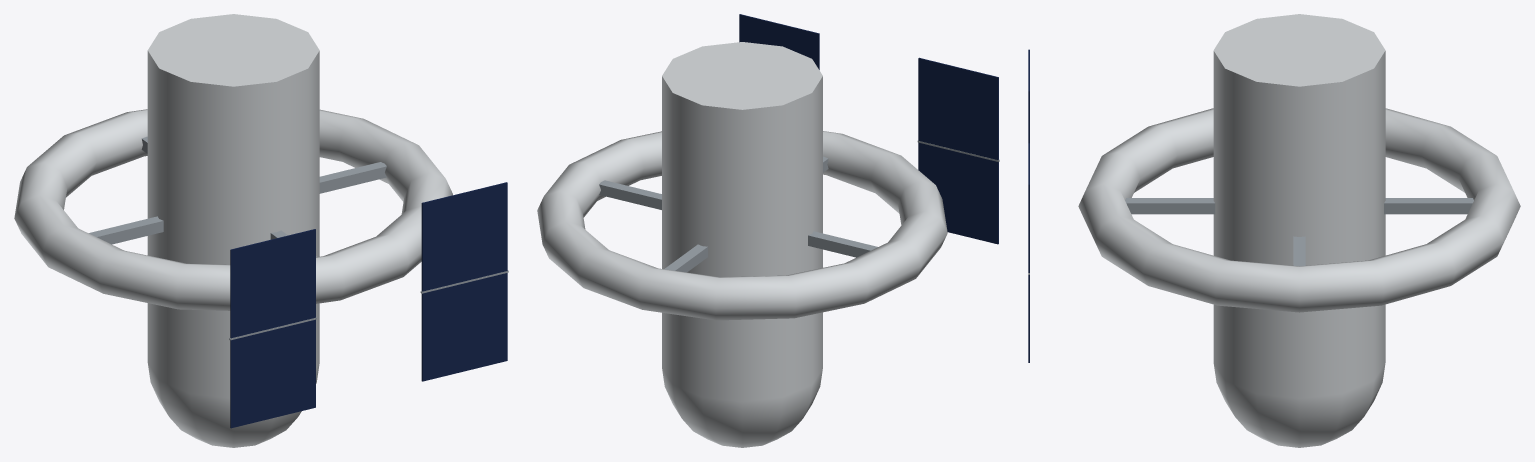
Rendered from space_orbital_station_t1.glb.
The picture shows the model from 3 angles, left to right: view 1: azimuth 30°, elevation 25°; view 2: azimuth 150°, elevation 25°; view 3: azimuth 270°, elevation 25°; orthographic projection. The views are drawn at different scales.
Visible parts, largest first — view 1: body, ring, solar_0, solar_1; view 2: body, ring, solar_1, solar_0; view 3: body, ring.
Boxes of the visible parts, <box> form: body: <box>147,14,319,447</box>; ring: <box>14,109,452,310</box>; solar_0: <box>420,182,508,381</box>; solar_1: <box>229,229,316,428</box>; body: <box>662,42,822,447</box>; ring: <box>537,131,947,320</box>; solar_1: <box>917,57,999,244</box>; solar_0: <box>739,14,819,69</box>; body: <box>1213,14,1385,447</box>; ring: <box>1078,108,1520,312</box>.
Size of what is drawn, in the model's own units: 18 by 17.5 by 20.04.
